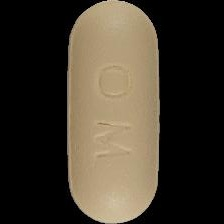55289-617: (0, 0, 224, 224)
